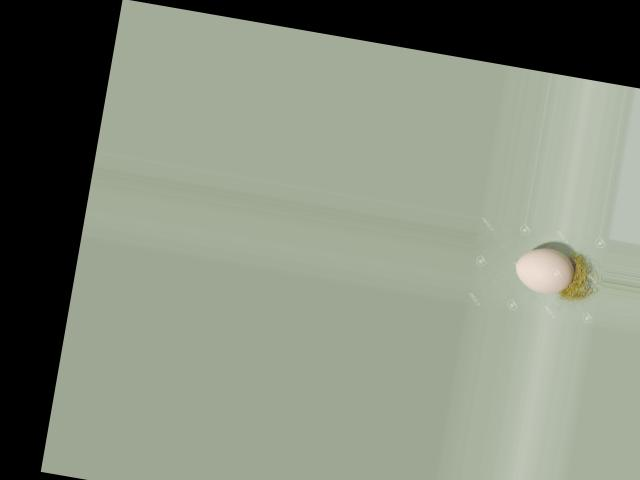egg: (511, 243, 576, 296)
